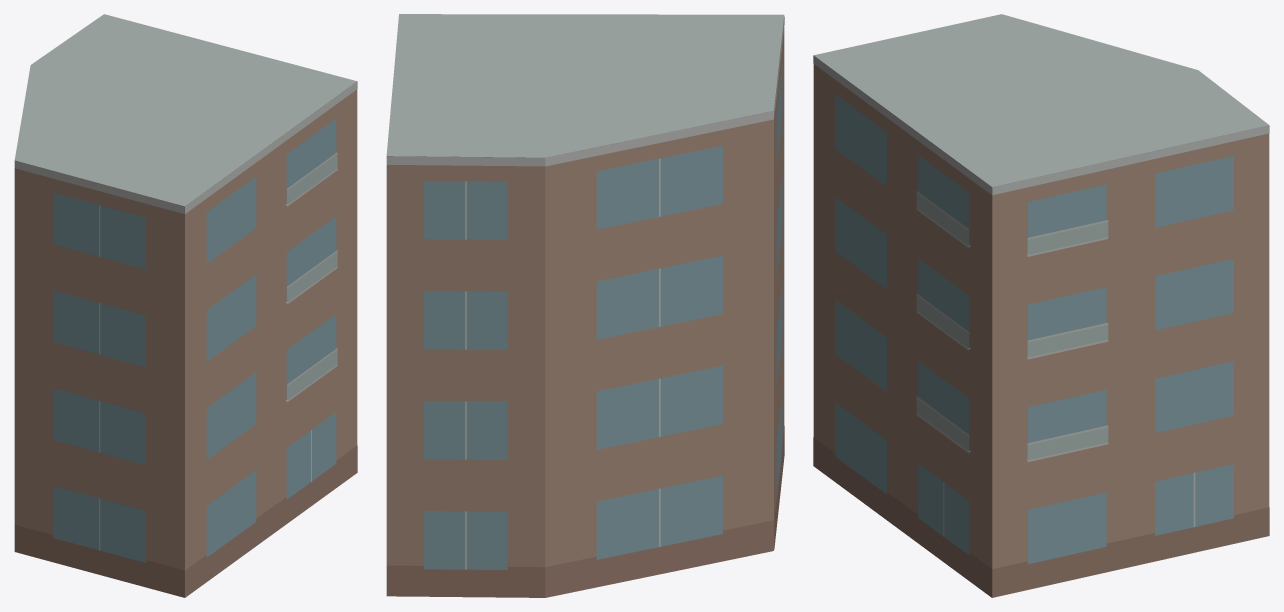
Rendered from survey-upis-32998247.glb.
3 renders of one model, left to right at view 1: azimuth 30°, elevation 25°; view 2: azimuth 150°, elevation 25°; view 3: azimuth 270°, elevation 25°, orthographic. The views are drawn at different scales.
Visible parts, largest first — view 1: survey-upis-32998247.tmp; view 2: survey-upis-32998247.tmp; view 3: survey-upis-32998247.tmp.
Part boxes in pixels (x1,y1,x2,y2): survey-upis-32998247.tmp: (14, 14, 357, 597); survey-upis-32998247.tmp: (386, 14, 784, 597); survey-upis-32998247.tmp: (813, 14, 1269, 597).
Bounding box in the file's own units: 11.04 × 12.2 × 12.29.
